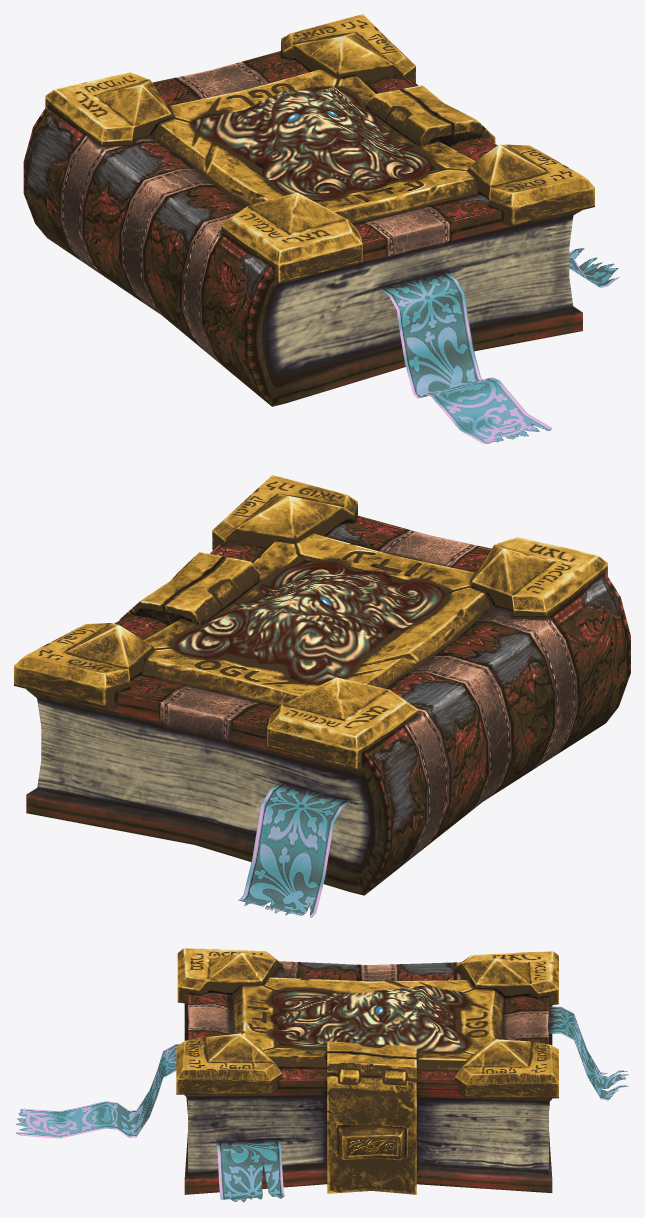
Rendered from magic_book_of_eden.glb.
The picture shows the model from 3 angles, top to bottom: view 1: azimuth 30°, elevation 25°; view 2: azimuth 150°, elevation 25°; view 3: azimuth 270°, elevation 25°; orthographic projection. The views are drawn at different scales.
Parts seen in each view (by area): view 1: Object_2; view 2: Object_2; view 3: Object_2.
Part boxes in pixels (<box>): Object_2: <box>23,14,619,443</box>; Object_2: <box>14,475,630,917</box>; Object_2: <box>16,948,628,1202</box>.
Bounding box in the file's own units: 103 × 42.32 × 167.
Materials: 1 (1 with a texture image).
